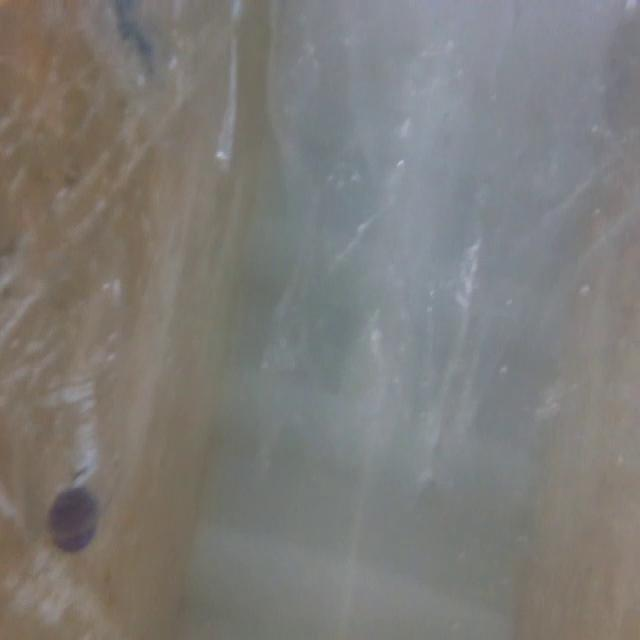plastic bags: (271, 0, 639, 555), (59, 0, 246, 175)
plastic bottle: (0, 155, 135, 560)
